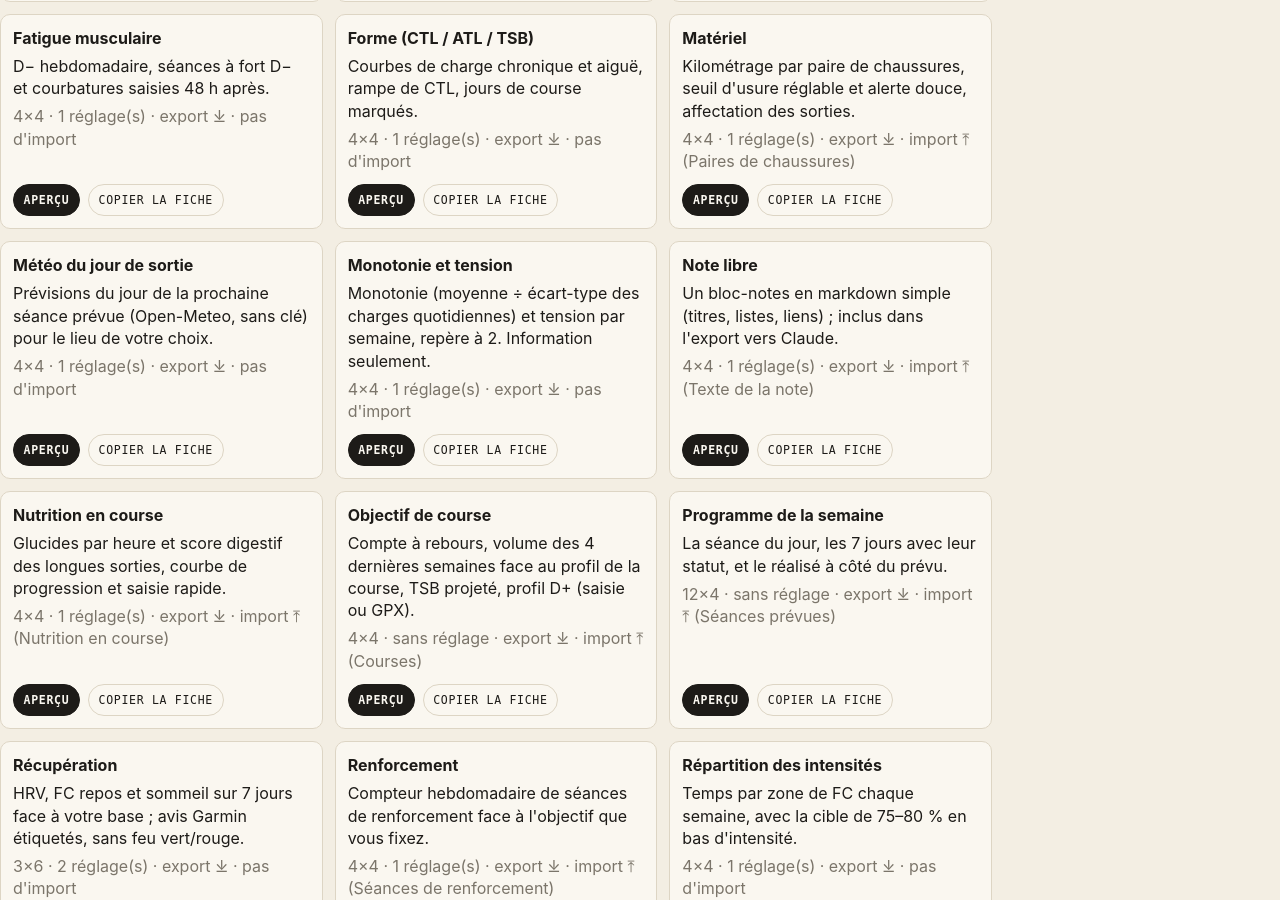
Scenario: Documentation › Échap ferme la fiche
(page scrolled)
Click the button "Aperçu" below "import ⤒ (Texte de la note)" at (716, 450), box [682,434,749,466]
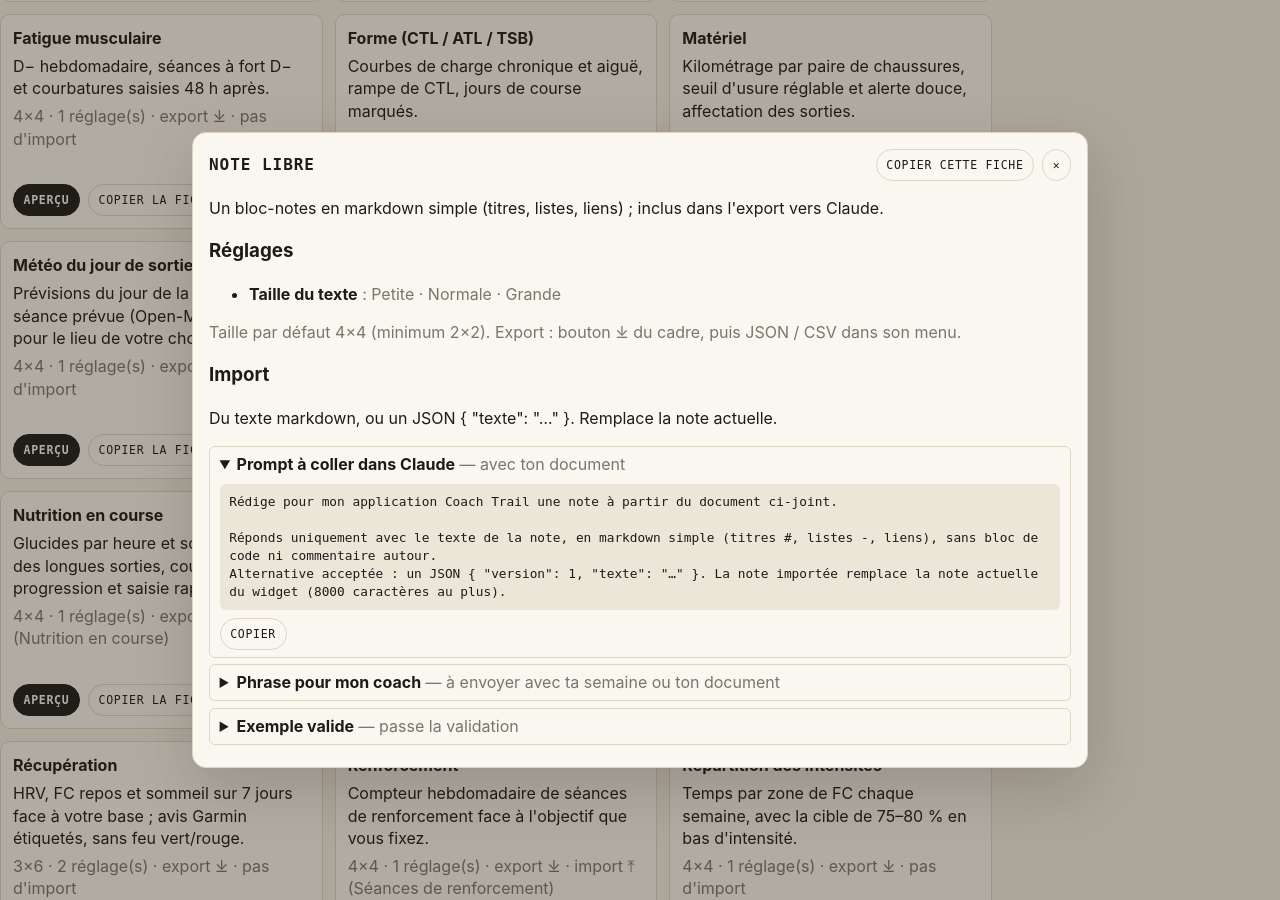
expect the dialog named "Fiche : Note libre" is shown: met, box [192,132,1088,768]
Press Escape
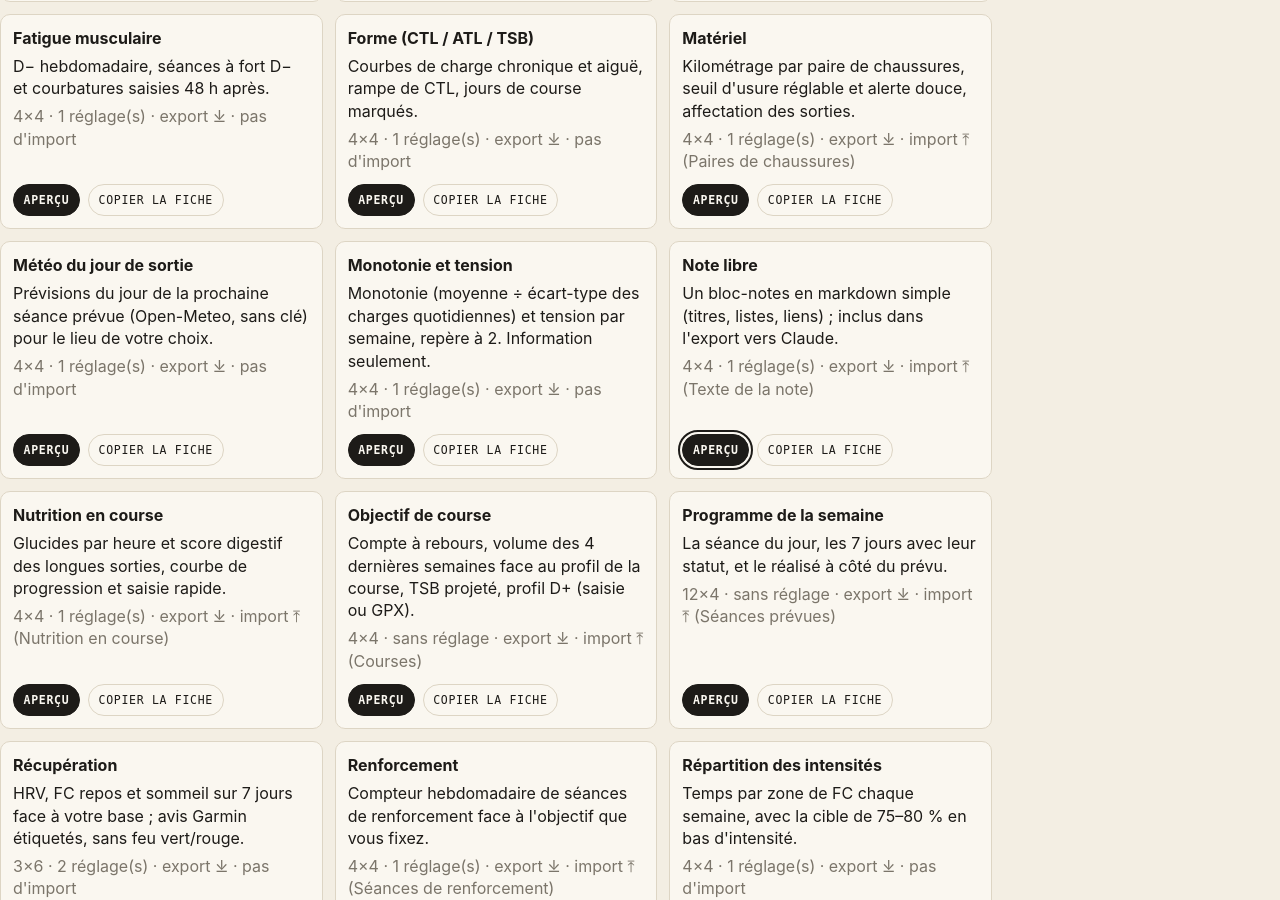
expect the dialog is gone: met
